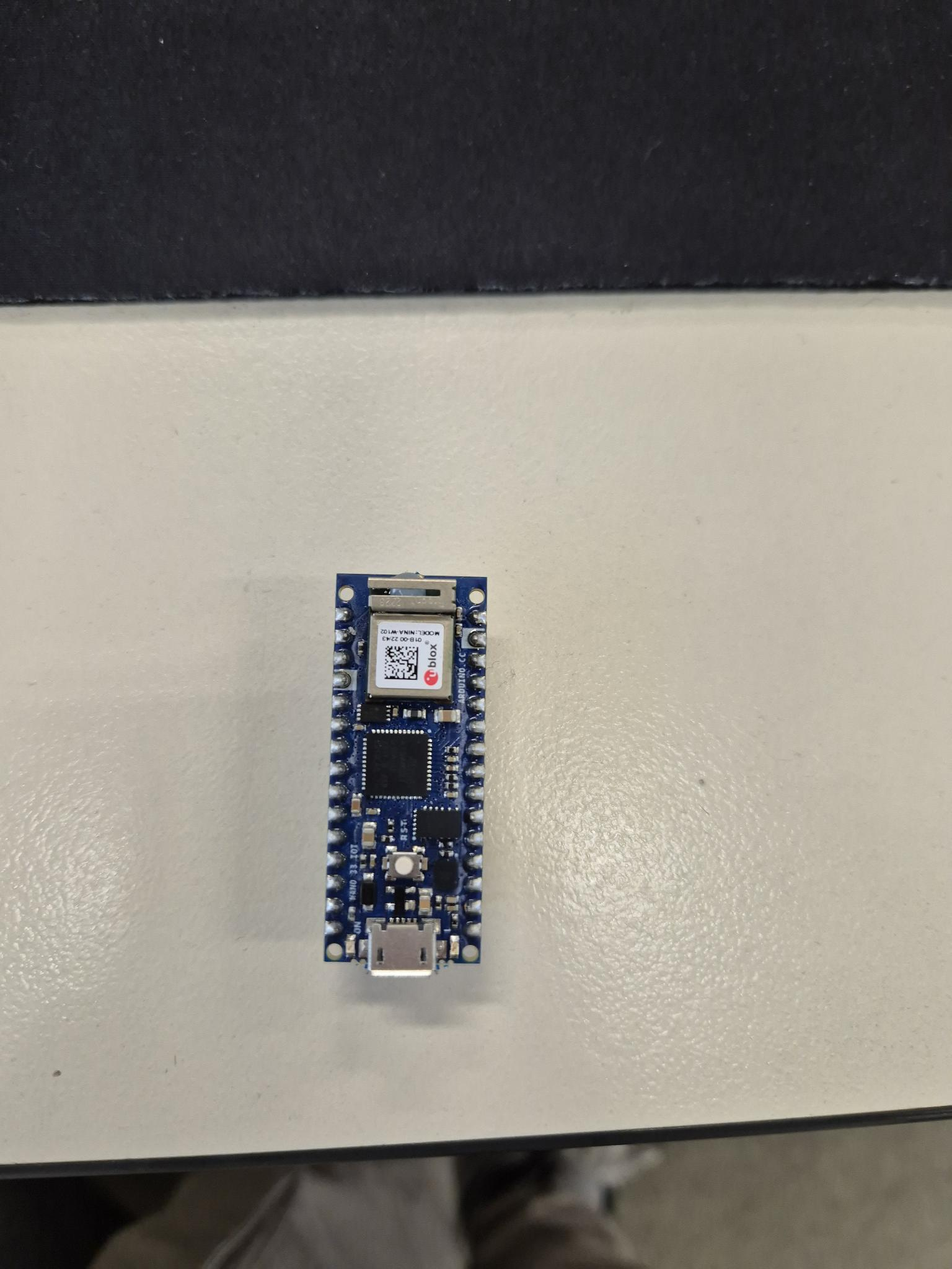arduino-nano-iot-33: (325, 575, 486, 975)
